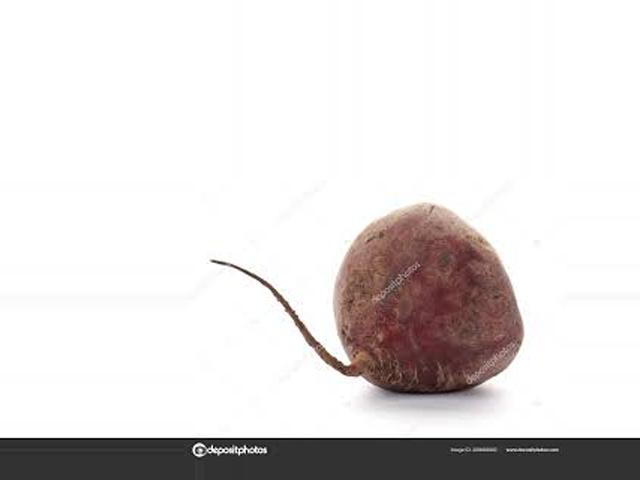beet: (211, 206, 523, 393)
